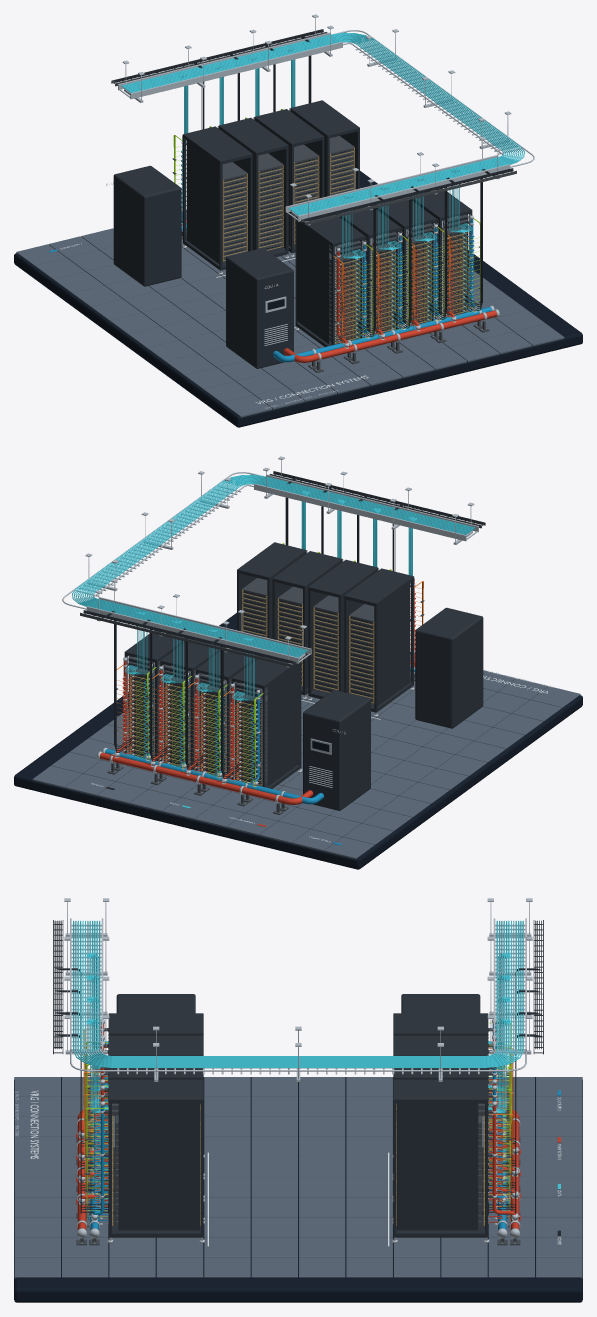
Rendered from VRG_Connections.glb.
3 views of the same model, one above another, from view 1: azimuth 30°, elevation 25°; view 2: azimuth 150°, elevation 25°; view 3: azimuth 270°, elevation 25° (orthographic). The views are drawn at different scales.
Visible parts, largest first — view 1: STAGE_Floor_Tiles_Mesh, STAGE_Raised_Platform_Mesh, B_CDU_Cabinet_Mesh, A_CDU_Cabinet_Mesh, B01_Rack_Frame_Mesh, A01_Rack_Frame_Mesh, B02_Rack_Frame_Mesh, B_Overhead_Ladder_Tray_Mesh, B03_Rack_Frame_Mesh, B02_18_Compute_Trays_Mesh, B01_18_Compute_Trays_Mesh, B04_Rack_Frame_Mesh (+32 smaller); view 2: STAGE_Floor_Tiles_Mesh, STAGE_Raised_Platform_Mesh, A_CDU_Cabinet_Mesh, B_CDU_Cabinet_Mesh, A01_Rack_Frame_Mesh, B01_Rack_Frame_Mesh, A02_Rack_Frame_Mesh, A_Overhead_Ladder_Tray_Mesh, A03_Rack_Frame_Mesh, A02_18_Compute_Trays_Mesh, A04_Rack_Frame_Mesh, A01_18_Compute_Trays_Mesh (+32 smaller); view 3: STAGE_Floor_Tiles_Mesh, STAGE_Raised_Platform_Mesh, A04_Rack_Frame_Mesh, B04_Rack_Frame_Mesh, A_Overhead_Ladder_Tray_Mesh, B_Overhead_Ladder_Tray_Mesh, A01_Rack_Frame_Mesh, B01_Rack_Frame_Mesh, A02_Rack_Frame_Mesh, B02_Rack_Frame_Mesh, A_CDU_Cabinet_Mesh, B_CDU_Cabinet_Mesh (+25 smaller).
Part boxes in pixels (x1,y1,x2,y2): STAGE_Floor_Tiles_Mesh: [16, 188, 564, 417]; STAGE_Raised_Platform_Mesh: [14, 171, 582, 427]; B_CDU_Cabinet_Mesh: [113, 165, 181, 286]; A_CDU_Cabinet_Mesh: [226, 248, 293, 368]; B01_Rack_Frame_Mesh: [183, 126, 252, 270]; A01_Rack_Frame_Mesh: [295, 214, 365, 346]; B02_Rack_Frame_Mesh: [218, 117, 288, 256]; B_Overhead_Ladder_Tray_Mesh: [118, 14, 342, 102]; B03_Rack_Frame_Mesh: [254, 109, 324, 253]; B02_18_Compute_Trays_Mesh: [258, 153, 283, 249]; B01_18_Compute_Trays_Mesh: [222, 162, 247, 260]; B04_Rack_Frame_Mesh: [290, 100, 359, 196]; STAGE_Floor_Tiles_Mesh: [32, 630, 580, 859]; STAGE_Raised_Platform_Mesh: [14, 613, 582, 869]; A_CDU_Cabinet_Mesh: [415, 607, 483, 728]; B_CDU_Cabinet_Mesh: [303, 690, 370, 810]; A01_Rack_Frame_Mesh: [344, 568, 413, 712]; B01_Rack_Frame_Mesh: [231, 656, 301, 788]; A02_Rack_Frame_Mesh: [308, 559, 378, 698]; A_Overhead_Ladder_Tray_Mesh: [254, 456, 478, 544]; A03_Rack_Frame_Mesh: [272, 551, 342, 695]; A02_18_Compute_Trays_Mesh: [313, 595, 338, 691]; A04_Rack_Frame_Mesh: [237, 542, 306, 638]; A01_18_Compute_Trays_Mesh: [349, 604, 374, 702]; STAGE_Floor_Tiles_Mesh: [14, 1077, 582, 1278]; STAGE_Raised_Platform_Mesh: [14, 1077, 582, 1302]; A04_Rack_Frame_Mesh: [108, 1079, 203, 1237]; B04_Rack_Frame_Mesh: [393, 1079, 488, 1237]; A_Overhead_Ladder_Tray_Mesh: [64, 898, 109, 1054]; B_Overhead_Ladder_Tray_Mesh: [487, 898, 532, 1054]; A01_Rack_Frame_Mesh: [108, 1013, 203, 1169]; B01_Rack_Frame_Mesh: [393, 1013, 488, 1169]; A02_Rack_Frame_Mesh: [108, 1035, 203, 1191]; B02_Rack_Frame_Mesh: [393, 1035, 488, 1191]; A_CDU_Cabinet_Mesh: [116, 994, 195, 1013]; B_CDU_Cabinet_Mesh: [401, 994, 480, 1013].
Size of the model in its own units: 6.4 by 3.45 by 7.2.
